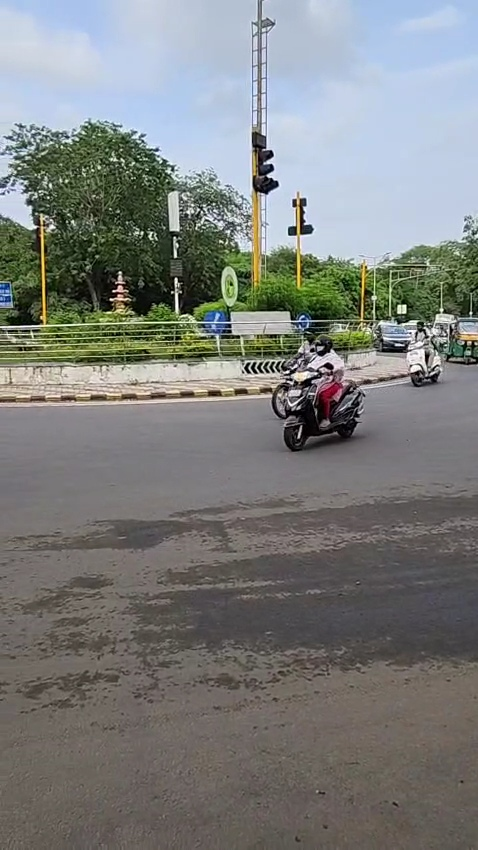BikeWithRider: (277, 334, 370, 456), (268, 324, 326, 422), (402, 317, 446, 391)
Helmet: (311, 331, 336, 358)
NoHelmet: (301, 324, 318, 347), (412, 319, 427, 334)
